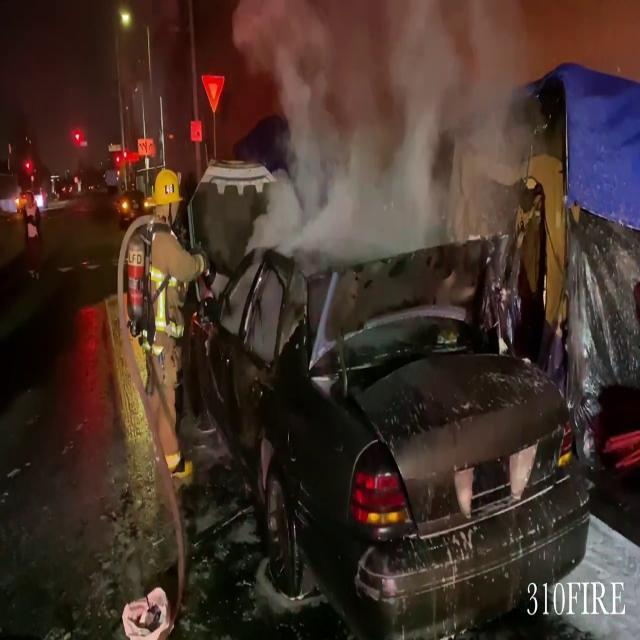Smoke: (232, 1, 542, 260)
